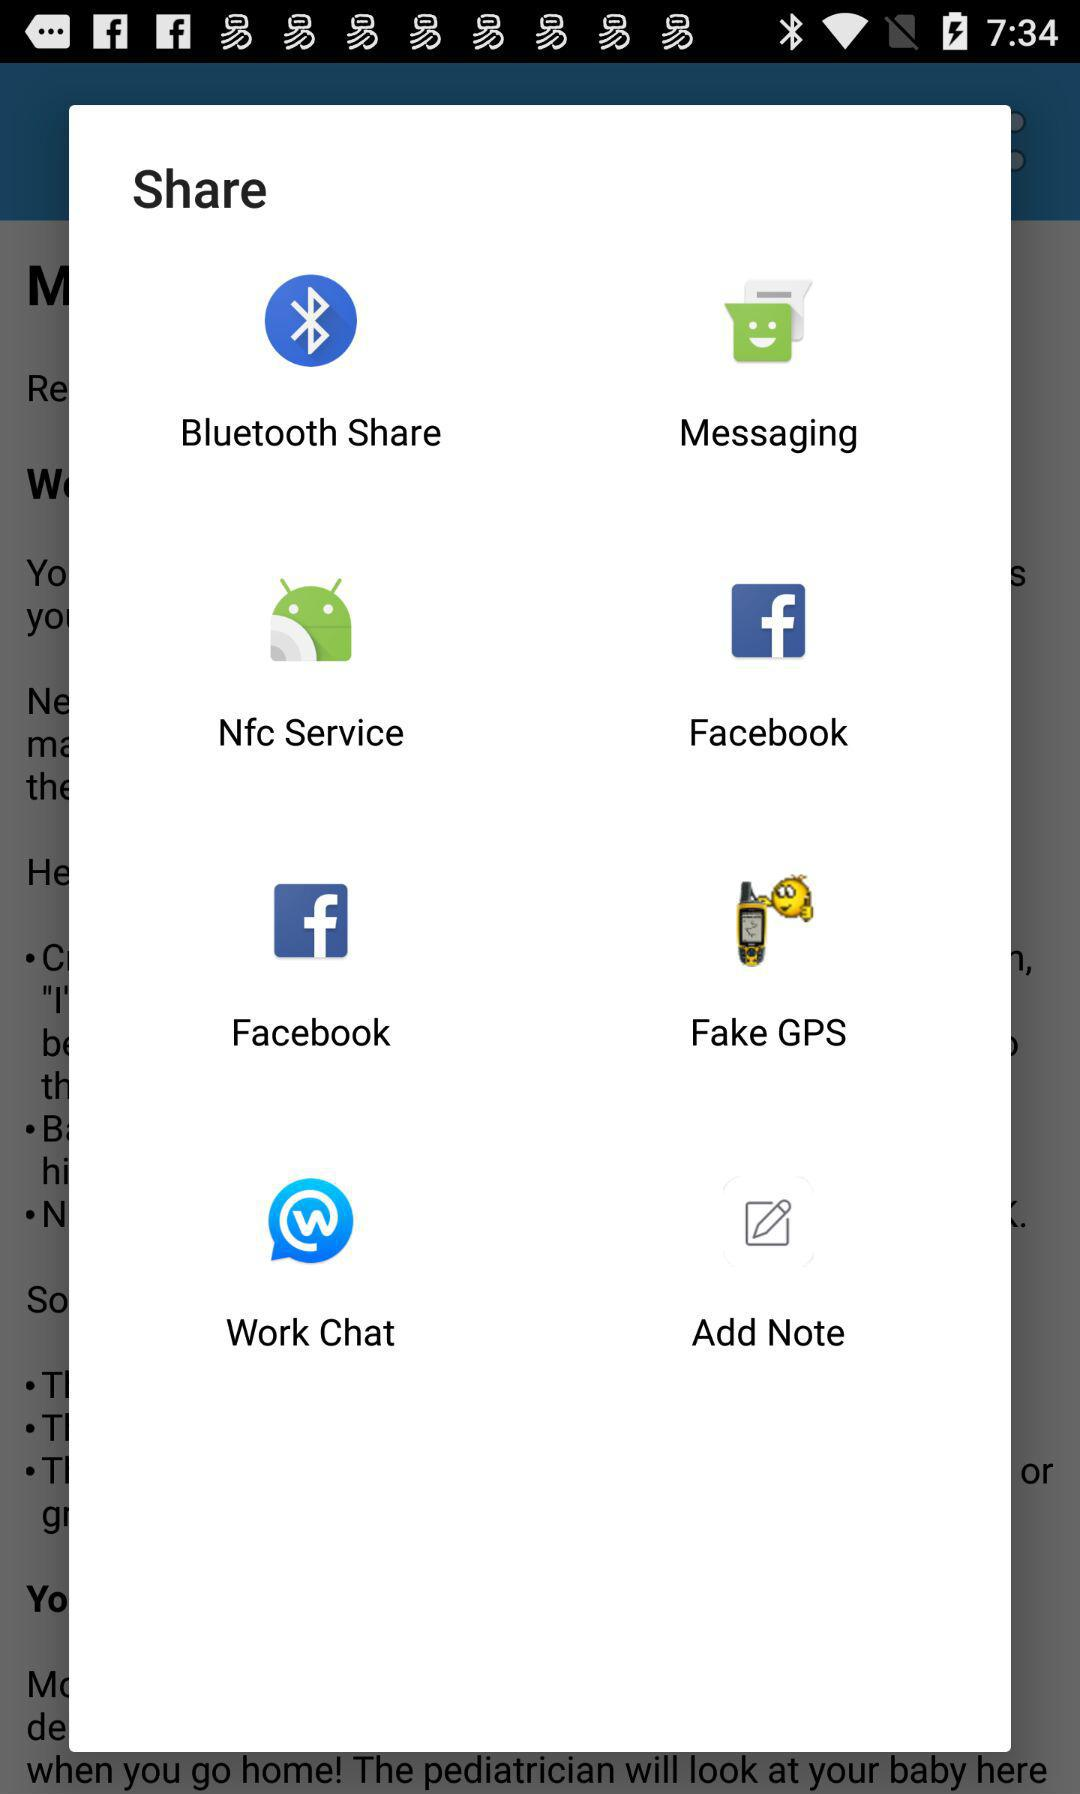Icon: (265, 274, 359, 368), (274, 884, 348, 959), (732, 584, 806, 657), (746, 1199, 790, 1246)
Image: (725, 277, 816, 364), (737, 874, 815, 967), (269, 1179, 354, 1263), (270, 578, 352, 662)
Modal: (69, 106, 1011, 1752)
Text: (184, 416, 442, 448), (682, 418, 857, 455), (133, 168, 268, 210), (220, 718, 404, 747), (691, 718, 851, 750), (228, 1317, 396, 1347), (693, 1017, 847, 1048), (234, 1017, 391, 1047), (692, 1319, 846, 1347)
UpperTaskBar: (1, 1, 1080, 64)
